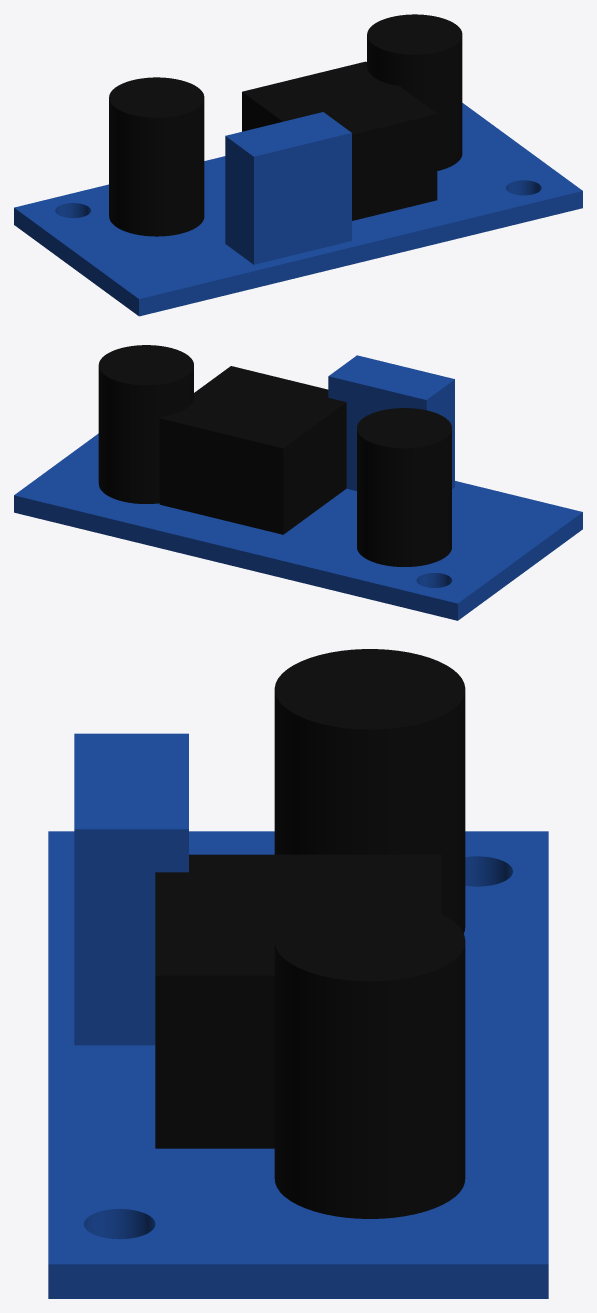
File: buck_lm2596.glb
3 views of the same model, one above another, from view 1: azimuth 30°, elevation 25°; view 2: azimuth 150°, elevation 25°; view 3: azimuth 270°, elevation 25° (orthographic). The views are drawn at different scales.
Parts seen in each view (by area): view 1: buck_lm2596; view 2: buck_lm2596; view 3: buck_lm2596.
Part boxes in pixels (x1=…): buck_lm2596: x1=14, y1=14, x2=582, y2=316; buck_lm2596: x1=14, y1=345, x2=582, y2=620; buck_lm2596: x1=48, y1=649, x2=548, y2=1298.
Size of the model in its own units: 43 by 12.6 by 21.
